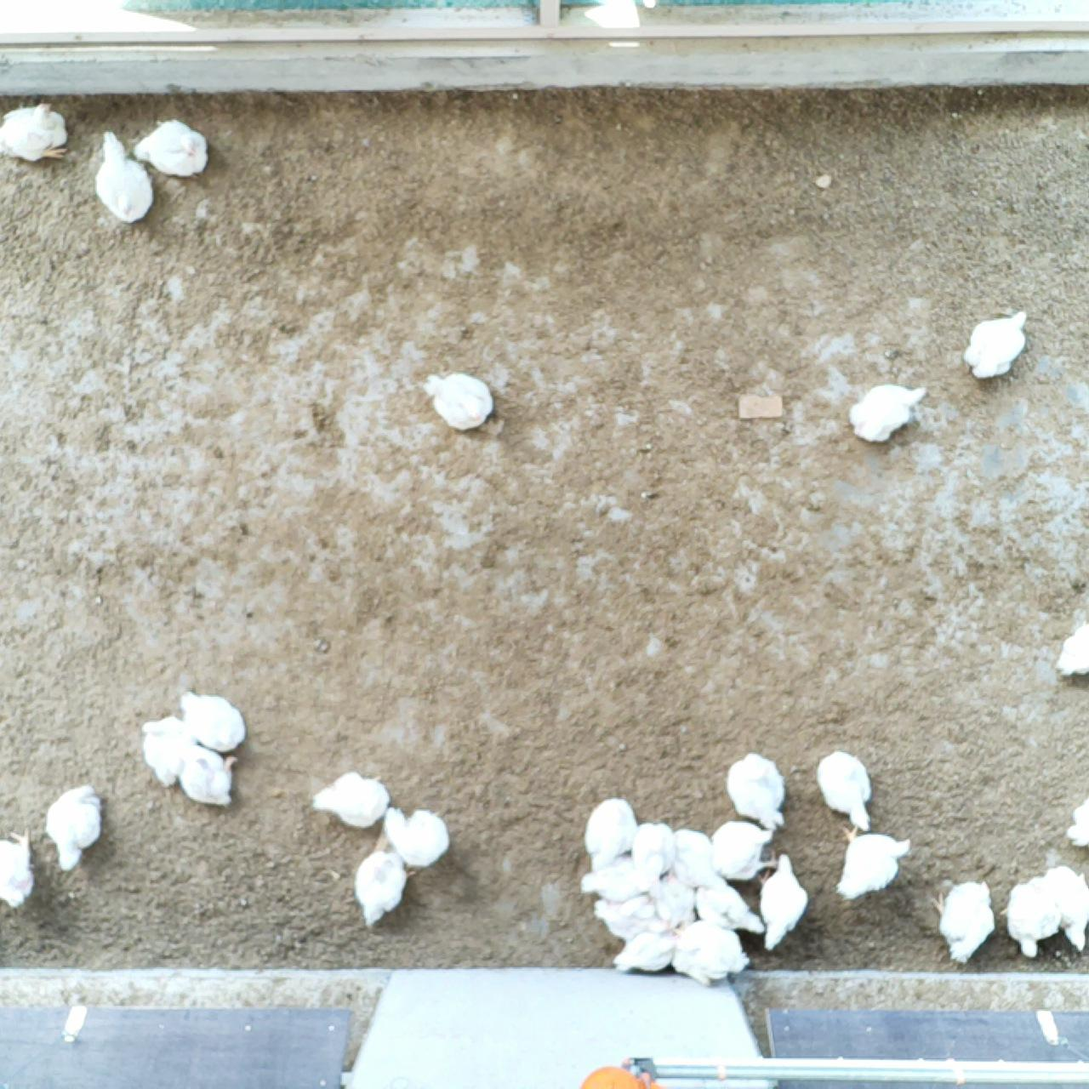chicken: (832, 819, 914, 908), (927, 876, 999, 969), (90, 127, 155, 227), (669, 916, 755, 990), (843, 376, 932, 447), (753, 846, 811, 954), (962, 306, 1037, 385), (44, 780, 105, 877), (1000, 870, 1065, 961), (349, 847, 418, 932), (811, 744, 875, 835), (724, 748, 790, 835), (305, 765, 392, 830), (173, 685, 251, 756), (381, 801, 452, 875), (692, 869, 768, 938), (420, 368, 496, 435), (0, 100, 76, 167), (130, 118, 210, 179), (708, 818, 780, 884), (667, 825, 732, 897), (581, 793, 640, 872), (587, 889, 670, 943), (176, 739, 239, 810), (1042, 862, 1089, 957), (575, 850, 659, 903), (139, 712, 191, 792), (610, 927, 683, 976), (0, 823, 38, 915), (646, 871, 700, 929), (630, 817, 677, 883), (1051, 615, 1089, 681), (1061, 793, 1089, 850)
